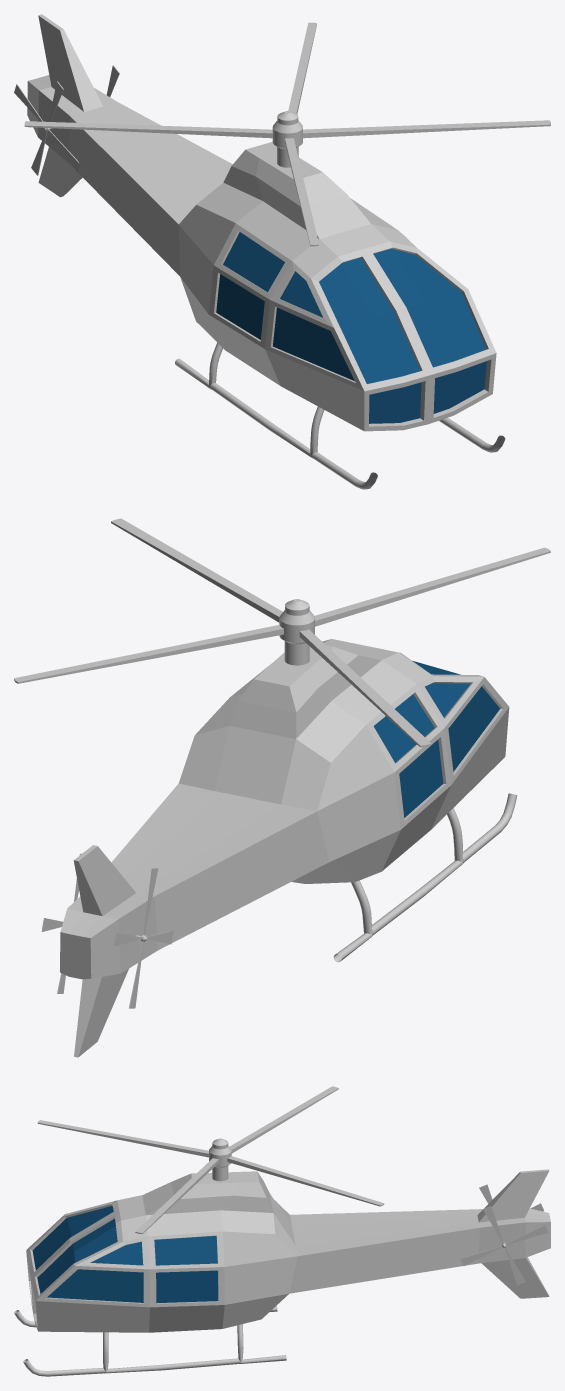
File: helicopter_animation_000080.obj
3 views of the same model, one above another, from view 1: azimuth 30°, elevation 25°; view 2: azimuth 150°, elevation 25°; view 3: azimuth 270°, elevation 25° (orthographic). The views are drawn at different scales.
Parts seen in each view (by area): view 1: Helicopter.007_Cylinder.008, Helicopter.001_Cylinder.001, Helicopter.004_Cylinder.005; view 2: Helicopter.007_Cylinder.008, Helicopter.001_Cylinder.001, Helicopter.004_Cylinder.005; view 3: Helicopter.007_Cylinder.008, Helicopter.001_Cylinder.001, Helicopter.003_Cylinder.004.
Boxes of the visible parts, <box> form: Helicopter.007_Cylinder.008: <box>27,14,505,489</box>; Helicopter.001_Cylinder.001: <box>24,22,550,246</box>; Helicopter.004_Cylinder.005: <box>14,81,80,175</box>; Helicopter.007_Cylinder.008: <box>60,639,517,1057</box>; Helicopter.001_Cylinder.001: <box>14,518,550,747</box>; Helicopter.004_Cylinder.005: <box>113,868,173,1008</box>; Helicopter.007_Cylinder.008: <box>14,1169,550,1376</box>; Helicopter.001_Cylinder.001: <box>37,1086,384,1234</box>; Helicopter.003_Cylinder.004: <box>460,1206,548,1285</box>.
Size of the model in its own units: 4.88 by 3.2 by 7.54.
